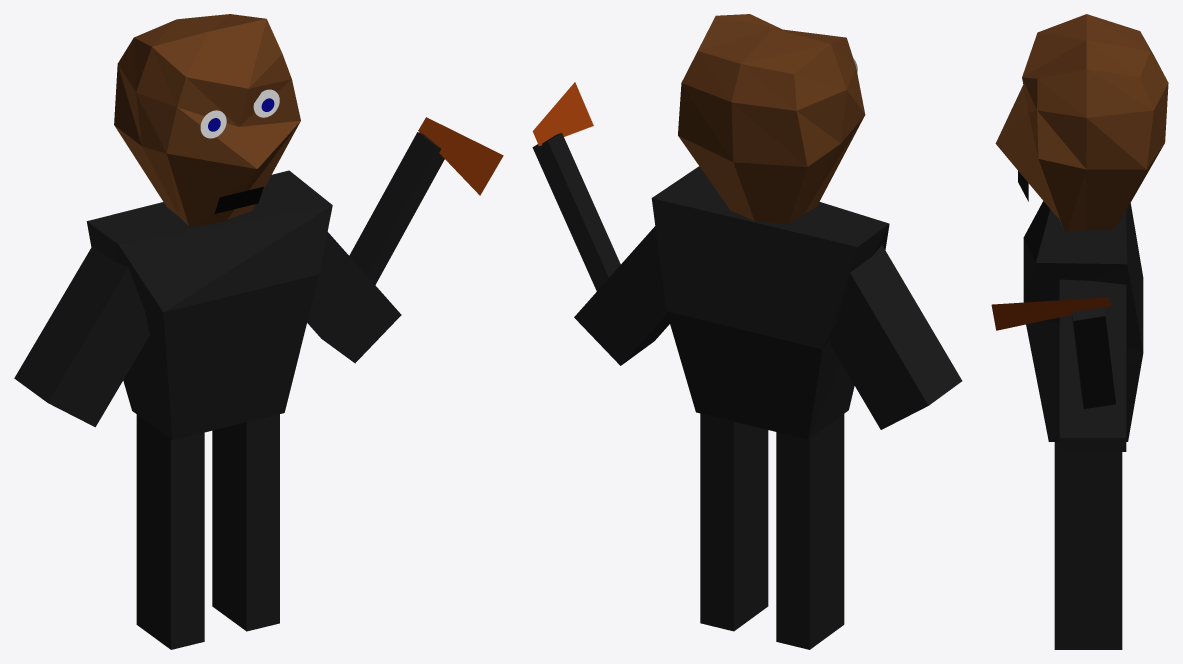
The model's file is axeman2f.obj.
3 views of the same model, side by side, from view 1: azimuth 30°, elevation 25°; view 2: azimuth 150°, elevation 25°; view 3: azimuth 270°, elevation 25° (orthographic).
Parts seen in each view (by area): view 1: Cube.001, Cube, Cube.004, Cube.003, Cube.005, Cube.002, Cube.007, Plane.001, Plane; view 2: Cube.001, Cube, Cube.004, Cube.005, Cube.003, Cube.002, Cube.007, Plane.001; view 3: Cube, Cube.005, Cube.001, Cube.002, Cube.007, Plane.001.
Boxes of the visible parts, x1,y1,x2,y2 form: Cube.001: [86, 170, 332, 440]; Cube: [114, 14, 300, 226]; Cube.004: [136, 414, 204, 649]; Cube.003: [14, 245, 149, 427]; Cube.005: [212, 414, 279, 631]; Cube.002: [307, 232, 401, 363]; Cube.007: [349, 132, 444, 284]; Plane.001: [418, 117, 503, 195]; Plane: [214, 186, 263, 213]; Cube.001: [651, 166, 889, 439]; Cube: [678, 14, 865, 224]; Cube.004: [776, 414, 844, 649]; Cube.005: [700, 413, 768, 631]; Cube.003: [830, 245, 962, 429]; Cube.002: [574, 226, 669, 365]; Cube.007: [532, 132, 620, 291]; Plane.001: [532, 82, 593, 146]; Cube: [995, 14, 1168, 231]; Cube.005: [1054, 442, 1122, 649]; Cube.001: [1023, 201, 1143, 441]; Cube.002: [1059, 279, 1126, 451]; Cube.007: [1071, 307, 1115, 408]; Plane.001: [991, 297, 1110, 330].
Bounding box in the file's own units: 4.35 × 5.86 × 1.61.
